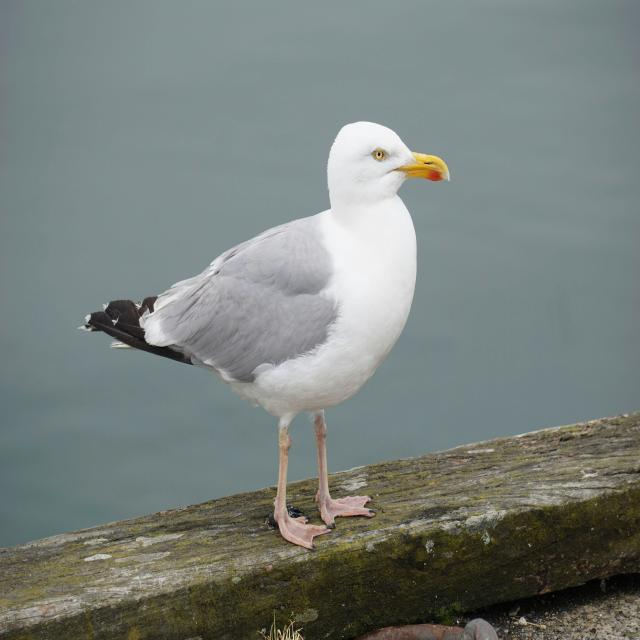starfish: (83, 122, 449, 549)
